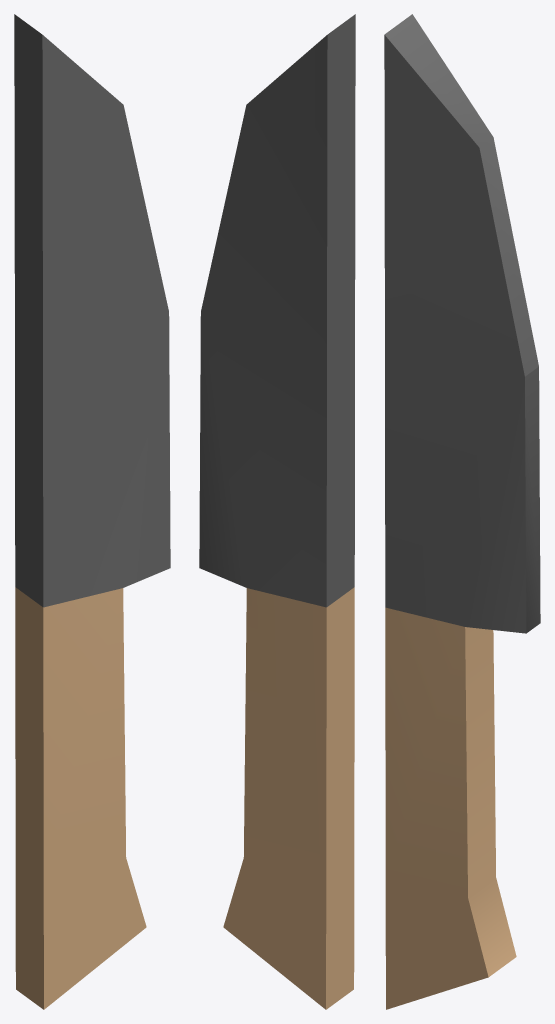
Rendered from knife_model.fbx.
3 views of the same model, side by side, from view 1: azimuth 30°, elevation 25°; view 2: azimuth 150°, elevation 25°; view 3: azimuth 330°, elevation 25° (orthographic).
Visible parts, largest first — view 1: knife_geo; view 2: knife_geo; view 3: knife_geo.
Part boxes in pixels (left/top/right/bottom): knife_geo: left=14, top=14, right=170, bottom=1009; knife_geo: left=199, top=14, right=355, bottom=1009; knife_geo: left=384, top=14, right=540, bottom=1009.
Size of the model in its own units: 0.2162 by 1.49 by 0.0778.
